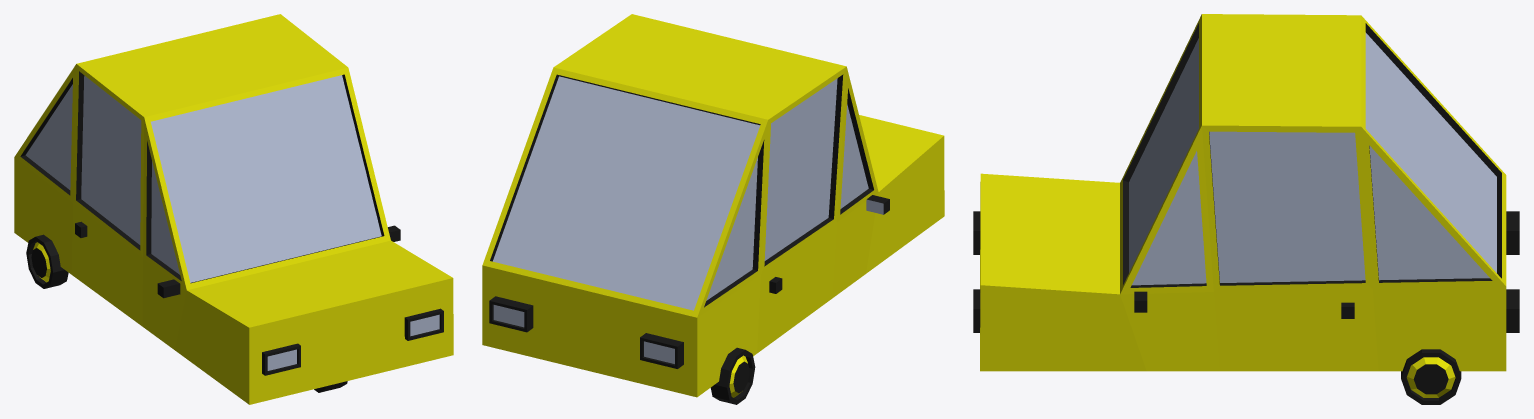
File: Car 6.fbx
3 views of the same model, side by side, from view 1: azimuth 30°, elevation 25°; view 2: azimuth 150°, elevation 25°; view 3: azimuth 270°, elevation 25° (orthographic). The views are drawn at different scales.
Visible parts, largest first — view 1: Car, Back Right Tire; view 2: Car, Back Right Tire; view 3: Car, Back Left Tire.
Boxes of the visible parts, x1,y1,x2,y2 form: Car: (14,14,453,404); Back Right Tire: (26,234,68,288); Car: (482,14,944,397); Back Right Tire: (710,347,755,404); Car: (973,14,1519,371); Back Left Tire: (1401,349,1461,404).
Size of the model in its own units: 2.32 by 2.28 by 4.14.
